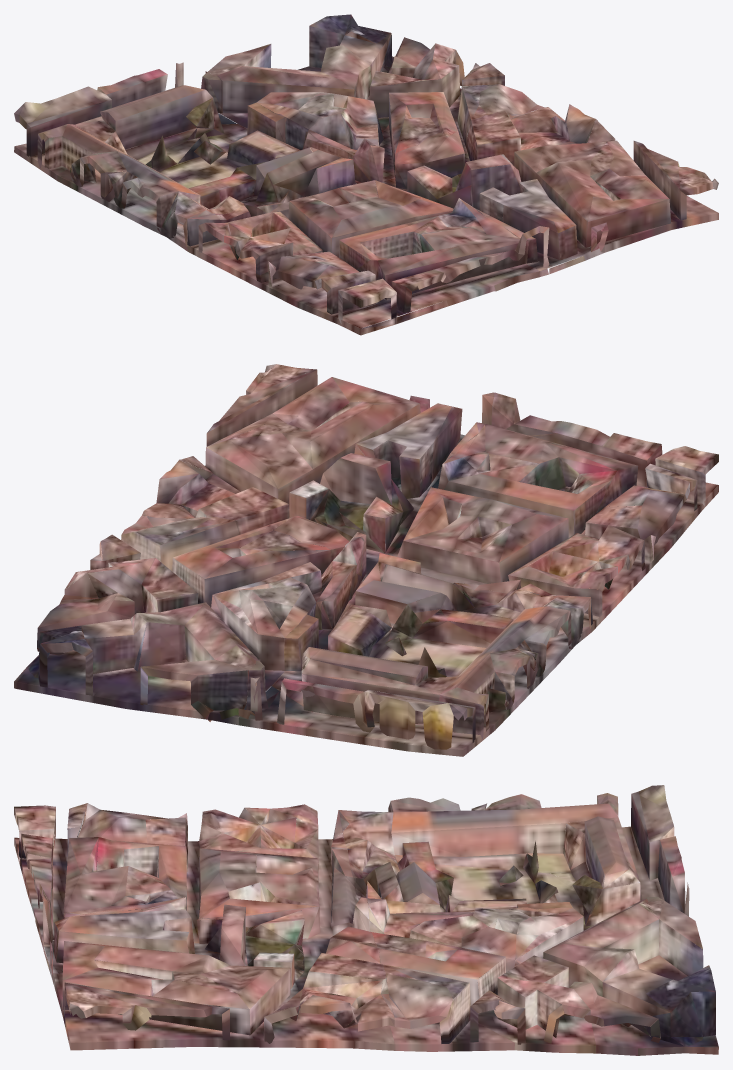
3 views of the same model, one above another, from view 1: azimuth 30°, elevation 25°; view 2: azimuth 150°, elevation 25°; view 3: azimuth 270°, elevation 25° (orthographic). The views are drawn at different scales.
Visible parts, largest first — view 1: Mesh_0; view 2: Mesh_0; view 3: Mesh_0.
Boxes of the visible parts, left/top/right/bottom form: Mesh_0: left=14, top=14, right=718, bottom=335; Mesh_0: left=14, top=364, right=718, bottom=756; Mesh_0: left=14, top=785, right=718, bottom=1055.
Size of the model in its own units: 266 by 47 by 330.
Materials: 2 (2 with a texture image).
